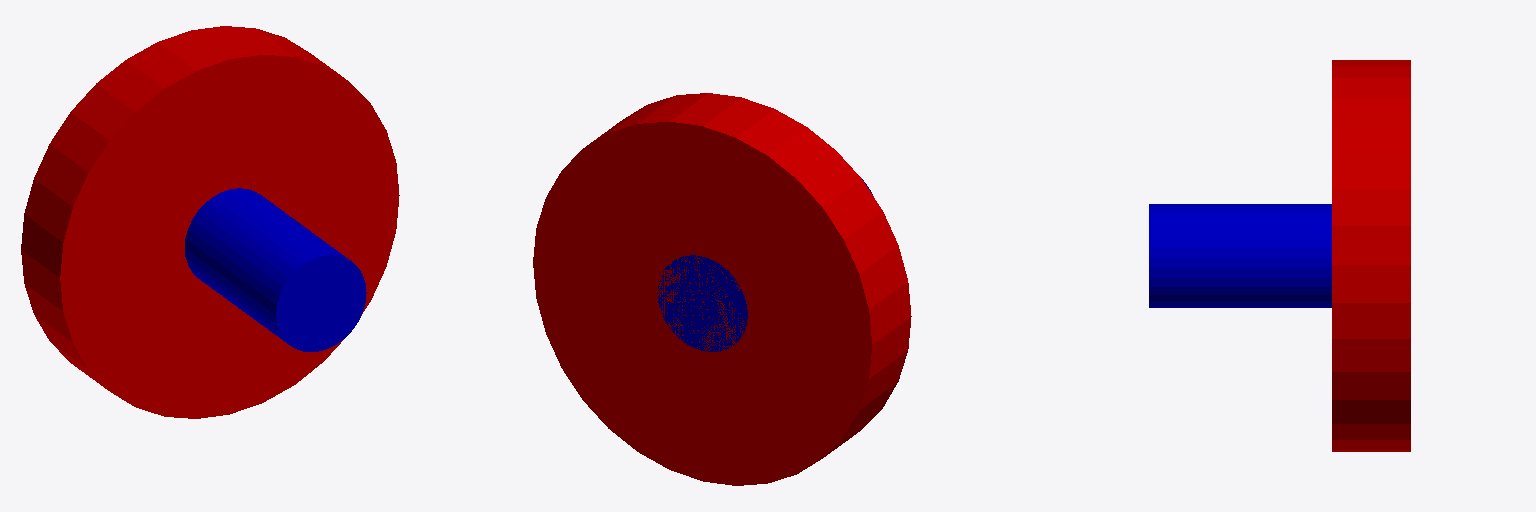
File: maillet2.obj
3 renders of one model, left to right at view 1: azimuth 30°, elevation 25°; view 2: azimuth 150°, elevation 25°; view 3: azimuth 270°, elevation 25°, orthographic.
Visible parts, largest first — view 1: Cylinder, Cylinder.001; view 2: Cylinder, Cylinder.001; view 3: Cylinder, Cylinder.001.
Boxes of the visible parts, x1=… form: Cylinder: x1=21, y1=26, x2=399, y2=418; Cylinder.001: x1=185, y1=188, x2=366, y2=351; Cylinder: x1=533, y1=93, x2=911, y2=485; Cylinder.001: x1=657, y1=179, x2=872, y2=351; Cylinder: x1=1332, y1=60, x2=1410, y2=451; Cylinder.001: x1=1149, y1=204, x2=1331, y2=307.
Bounding box in the file's own units: 15 × 15 × 10.